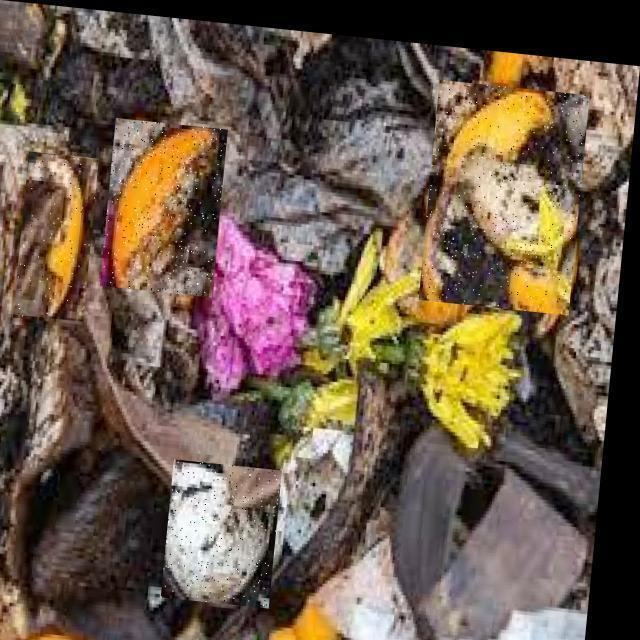cardboard: (1, 4, 636, 637)
